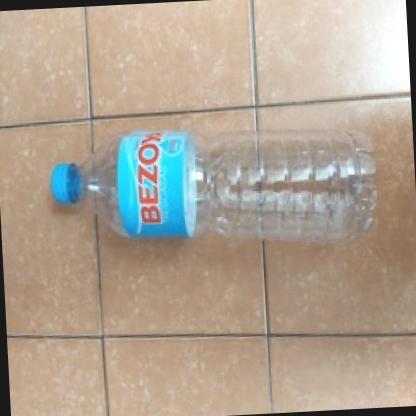plastic_bottles: (44, 119, 392, 260)
